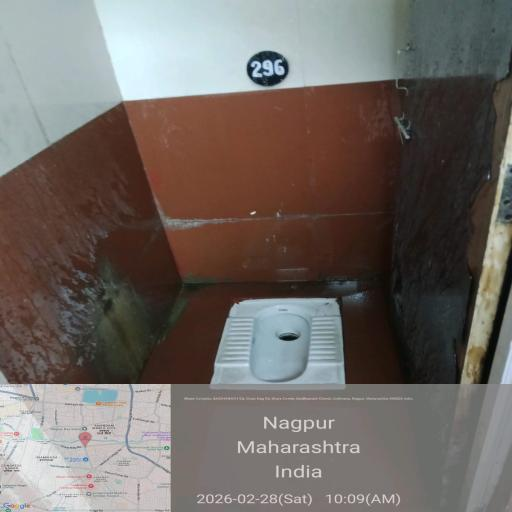clean_floor: (86, 12, 374, 194), (367, 19, 464, 323)
partial_dirty_floor: (2, 198, 162, 376), (160, 207, 392, 235), (164, 262, 224, 322), (230, 239, 315, 269)
partial_dirty_indian: (211, 302, 352, 386)
